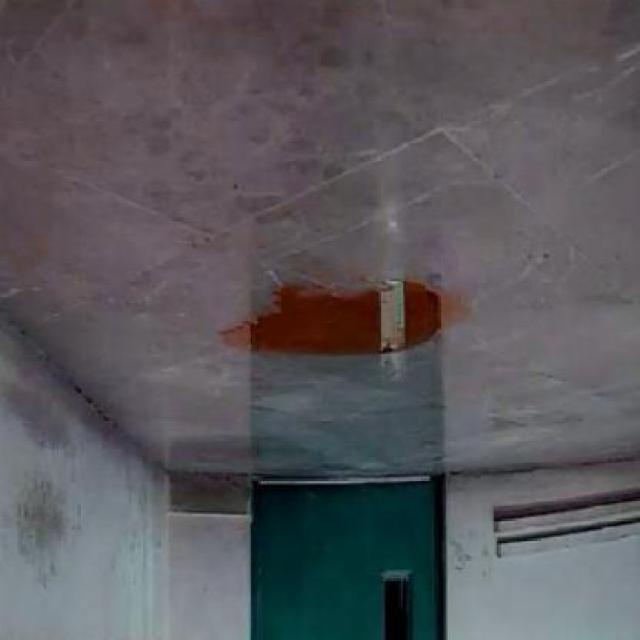spillage: (238, 277, 443, 354)
